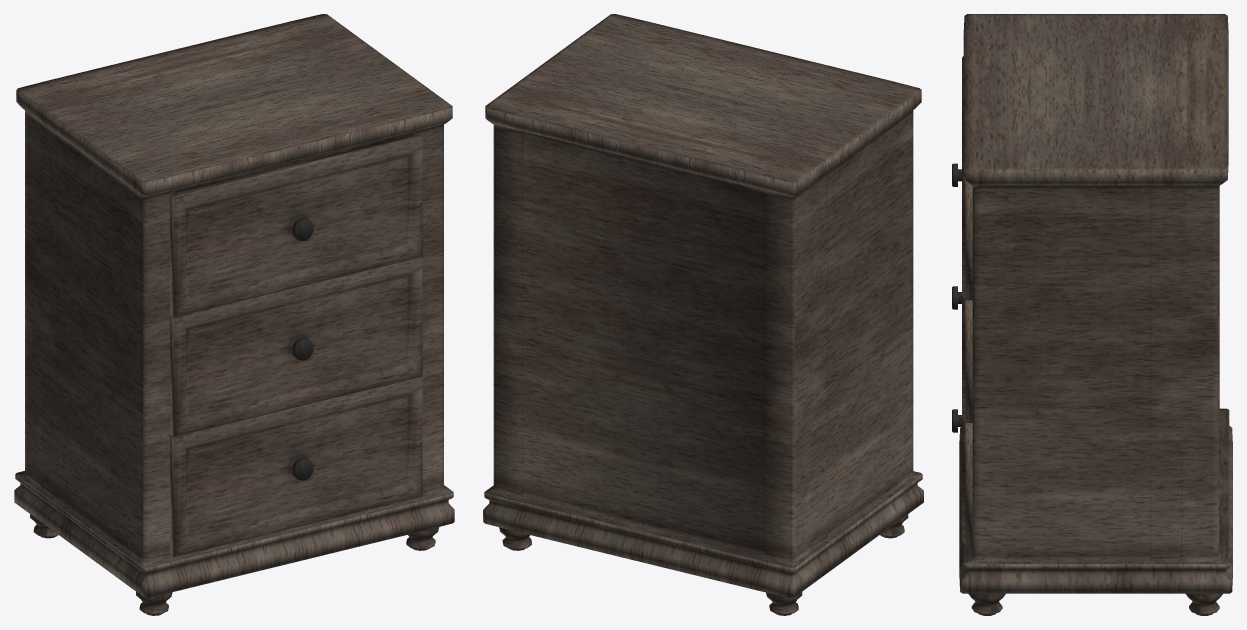
Rendered from Bedside Table 1.fbx.
3 renders of one model, left to right at view 1: azimuth 30°, elevation 25°; view 2: azimuth 150°, elevation 25°; view 3: azimuth 270°, elevation 25°, orthographic. The views are drawn at different scales.
Parts seen in each view (by area): view 1: Bedside_Table_1, bedside_table_1_drawer_3, bedside_table_1_drawer_1, bedside_table_1_drawer_2; view 2: Bedside_Table_1; view 3: Bedside_Table_1, bedside_table_1_drawer_3, bedside_table_1_drawer_1, bedside_table_1_drawer_2.
Boxes of the visible parts, x1=… form: Bedside_Table_1: x1=14, y1=14, x2=454, y2=615; bedside_table_1_drawer_3: x1=170, y1=135, x2=422, y2=317; bedside_table_1_drawer_1: x1=170, y1=376, x2=422, y2=557; bedside_table_1_drawer_2: x1=170, y1=257, x2=422, y2=437; Bedside_Table_1: x1=483, y1=14, x2=923, y2=615; Bedside_Table_1: x1=959, y1=14, x2=1232, y2=615; bedside_table_1_drawer_3: x1=952, y1=56, x2=972, y2=300; bedside_table_1_drawer_1: x1=952, y1=409, x2=972, y2=545; bedside_table_1_drawer_2: x1=952, y1=286, x2=972, y2=422.
Bounding box in the file's own units: 42.62 × 57.98 × 32.54.
